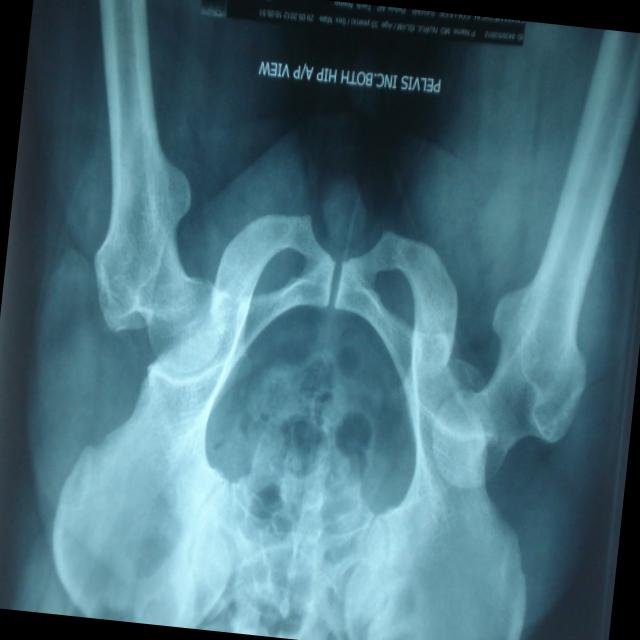normal-left: (91, 66, 224, 372)
right-dislocation: (430, 183, 607, 488)
